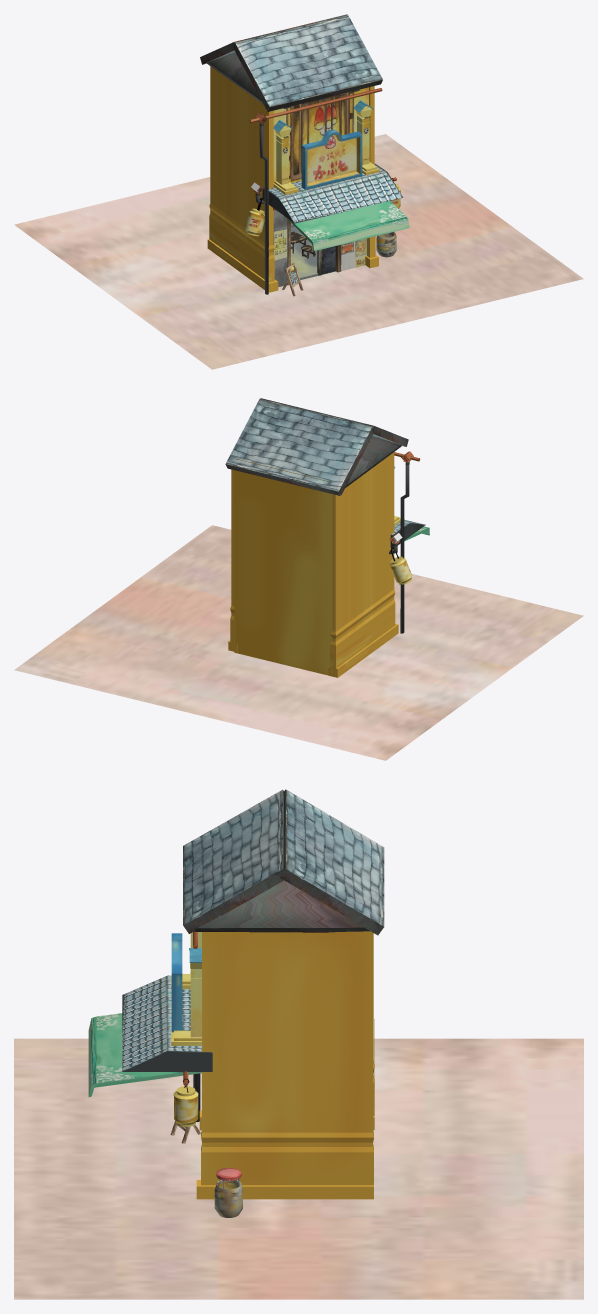
Rendered from 日本商店 (1).FBX.
The picture shows the model from 3 angles, top to bottom: view 1: azimuth 30°, elevation 25°; view 2: azimuth 150°, elevation 25°; view 3: azimuth 270°, elevation 25°; orthographic projection. The views are drawn at different scales.
Parts seen in each view (by area): view 1: Plane001, Box001, Box057, Box038, Box056, Box005, Box051, Box007, Box059, Box021, Box085, Box003 (+7 smaller); view 2: Plane001, Box003, Box001, Box090, Box059, Box006, Tube004, Box057; view 3: Plane001, Box006, Box090, Box057, Box038, Box060, Box005, Box041, Box051, Cylinder010, Cylinder004.
Boxes of the visible parts, x1,y1,x2,y2 form: Plane001: [14, 134, 583, 369]; Box001: [207, 66, 278, 292]; Box057: [233, 15, 382, 111]; Box038: [262, 163, 402, 223]; Box056: [273, 87, 368, 182]; Box005: [286, 201, 409, 250]; Box051: [301, 129, 362, 189]; Box007: [273, 210, 290, 286]; Box059: [207, 53, 263, 104]; Box021: [335, 238, 366, 272]; Box085: [273, 135, 298, 194]; Box003: [291, 223, 335, 279]; Plane001: [14, 525, 583, 760]; Box003: [234, 459, 332, 675]; Box001: [328, 452, 398, 677]; Box090: [225, 398, 373, 495]; Box059: [339, 436, 401, 492]; Box006: [228, 469, 237, 652]; Tube004: [400, 495, 404, 633]; Box057: [260, 398, 408, 446]; Plane001: [14, 1038, 583, 1299]; Box006: [196, 931, 373, 1199]; Box090: [279, 789, 384, 935]; Box057: [183, 789, 288, 933]; Box038: [122, 975, 212, 1071]; Box060: [194, 880, 369, 932]; Box005: [88, 1013, 201, 1097]; Box041: [171, 969, 201, 1045]; Box051: [171, 933, 182, 1032]; Cylinder010: [214, 1180, 242, 1217]; Cylinder004: [173, 1086, 198, 1126].
Size of the model in its own units: 400 by 237 by 369.
24 materials, 22 textured.
